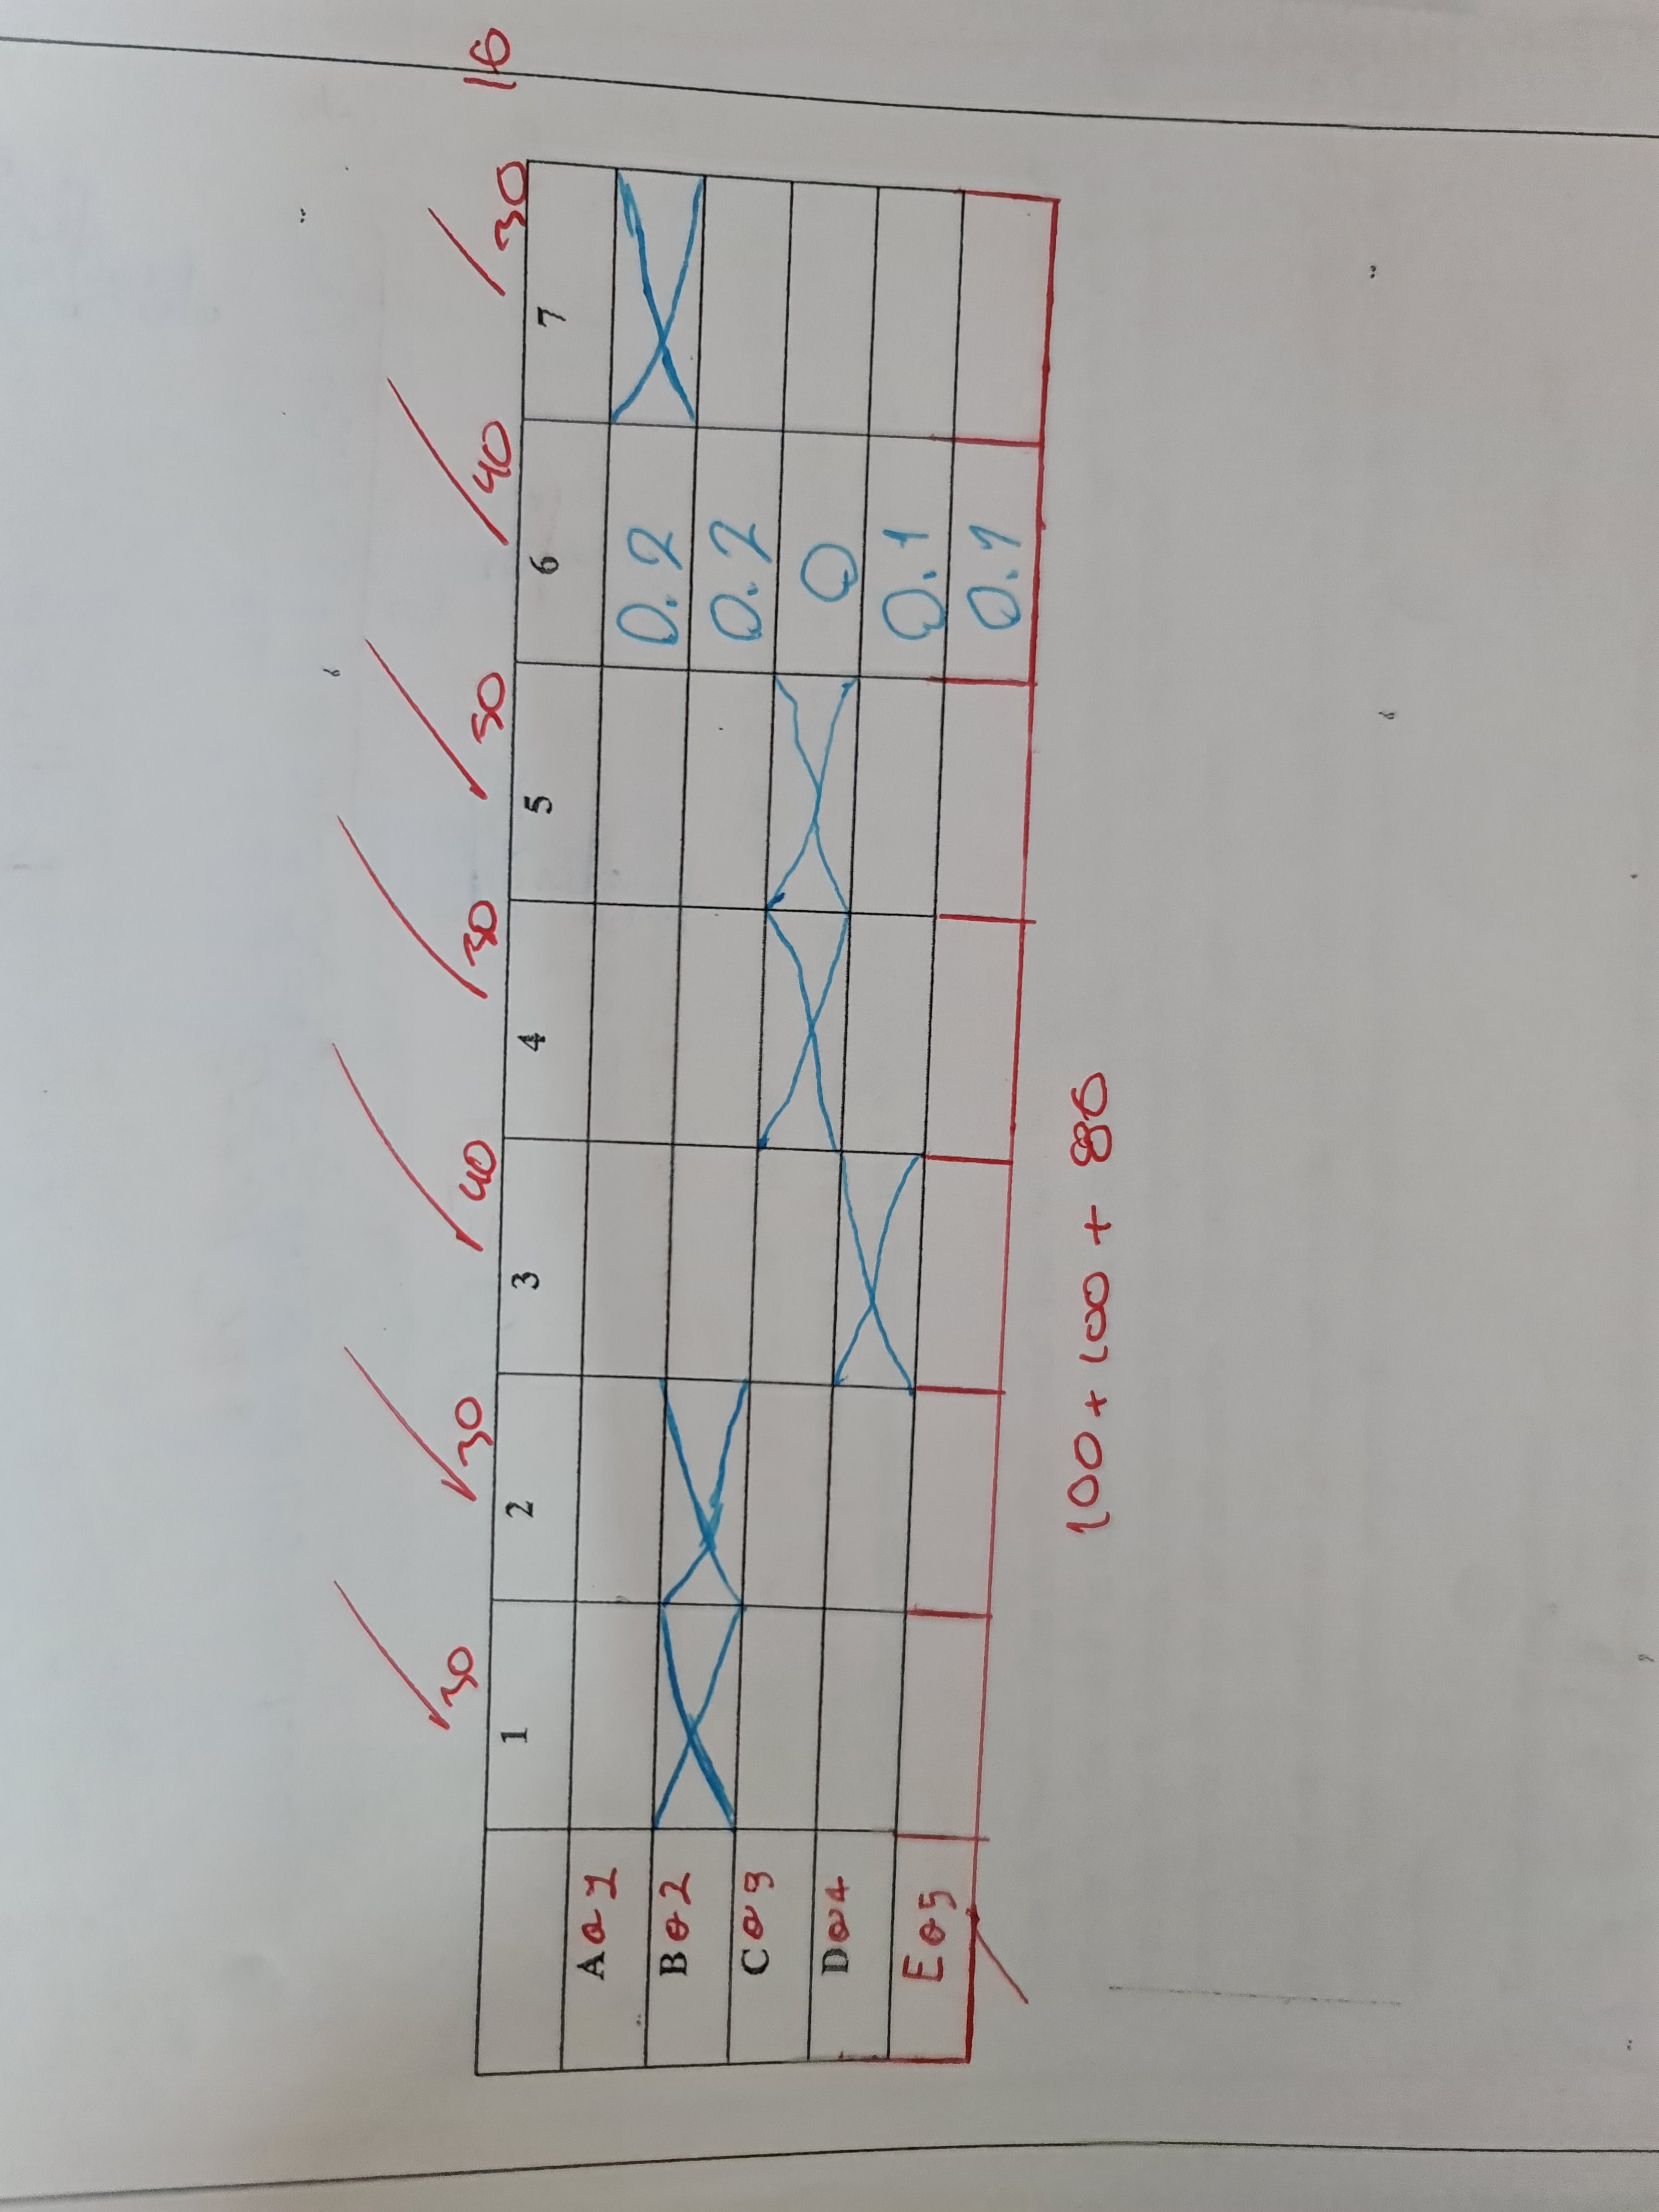column: (495, 644, 1042, 946), (500, 888, 1051, 1176), (491, 1123, 1040, 1402), (467, 1581, 1000, 1867), (465, 1817, 986, 2094), (490, 1360, 1019, 1629)
